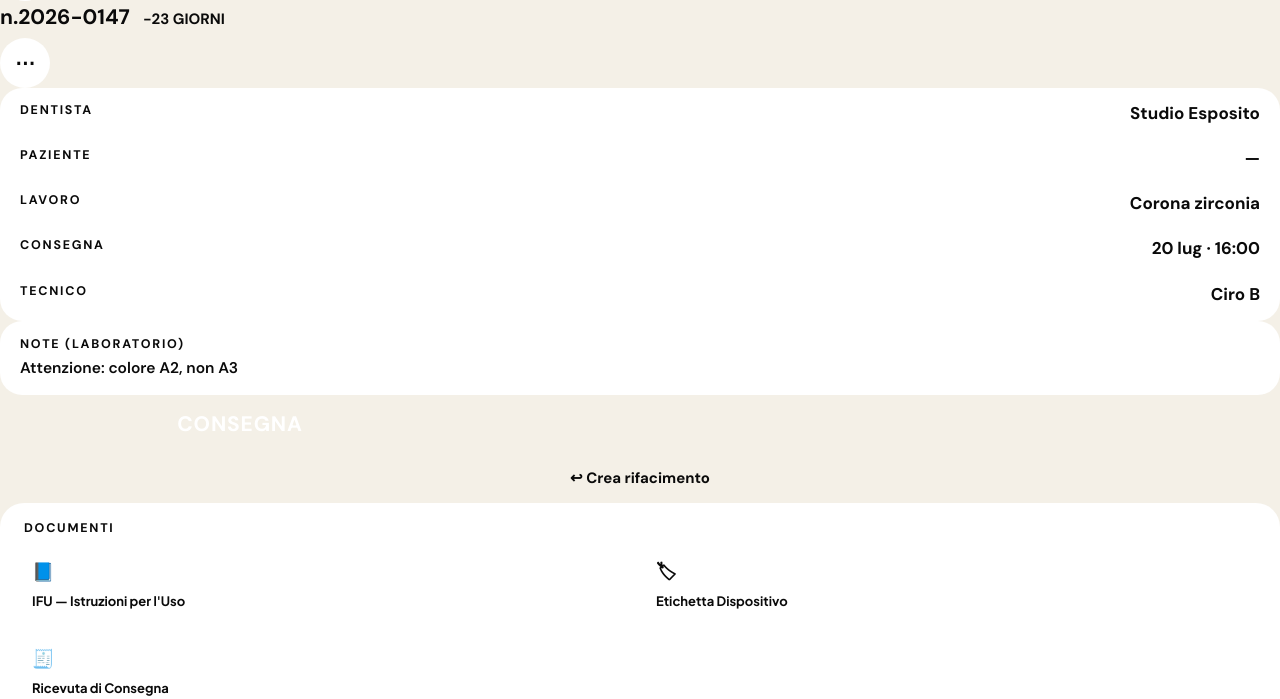
Scenario: SchedaLavoroV3 › note_interne è mostrata come nota del laboratorio, mai attribuita al dentista
(page scrolled)
Check: the text "Attenzione: colore A2, non A3" is shown, box [20, 357, 238, 381]
Click the button with aria-label "modifica nota del laboratorio": click(102, 344) [0, 320, 1279, 394]
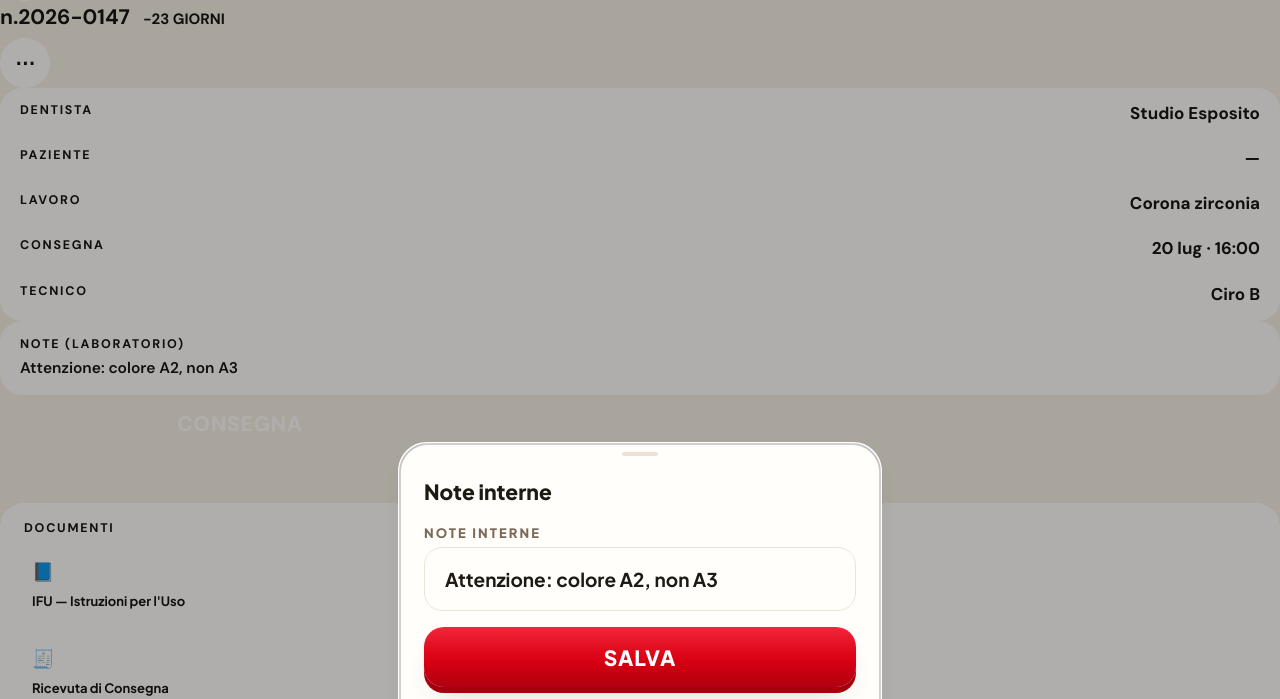
Check: the heading "Note interne" is shown, box [424, 478, 552, 505]
